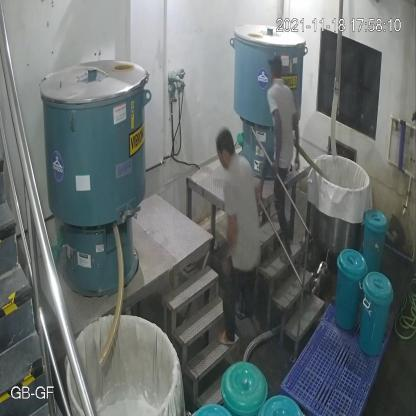no_shoes: (218, 324, 235, 348)
